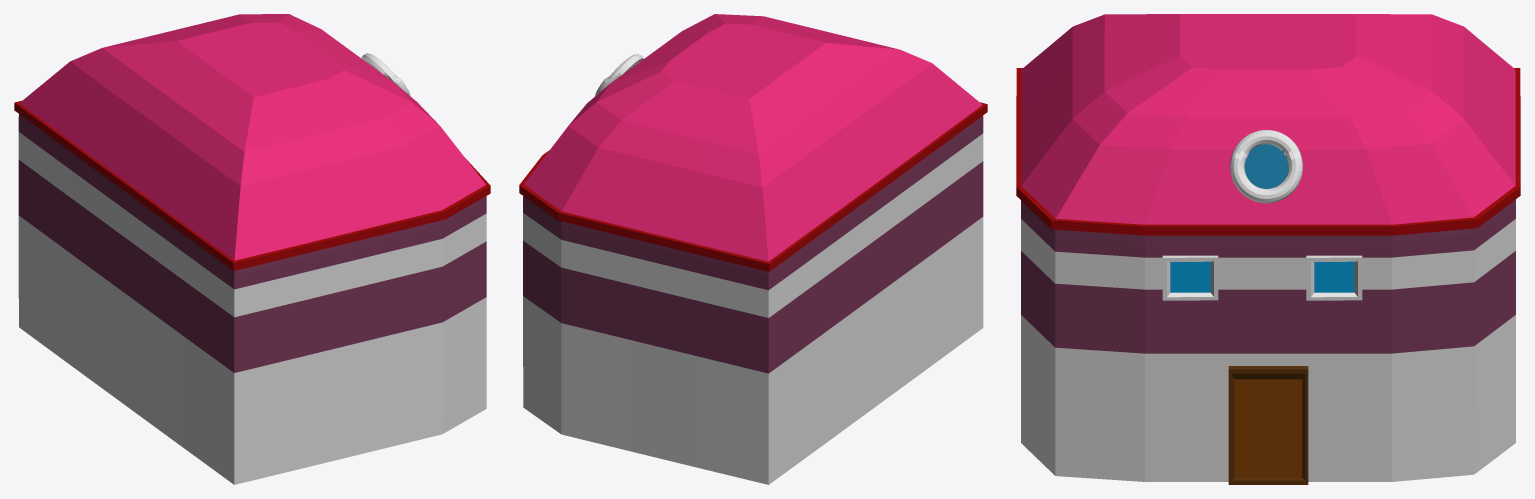
File: center (2).fbx
3 views of the same model, side by side, from view 1: azimuth 30°, elevation 25°; view 2: azimuth 150°, elevation 25°; view 3: azimuth 270°, elevation 25° (orthographic). The views are drawn at different scales.
Parts seen in each view (by area): view 1: Cube; view 2: Cube; view 3: Cube, Cube.001, Cube.002, Torus.
Part boxes in pixels (x1=…): Cube: x1=14, y1=14, x2=490, y2=484; Cube: x1=519, y1=14, x2=987, y2=484; Cube: x1=1016, y1=14, x2=1520, y2=481; Cube.001: x1=1228, y1=366, x2=1308, y2=484; Cube.002: x1=1162, y1=255, x2=1362, y2=300; Torus: x1=1230, y1=130, x2=1302, y2=203.
Bounding box in the file's own units: 492 × 519 × 654.
